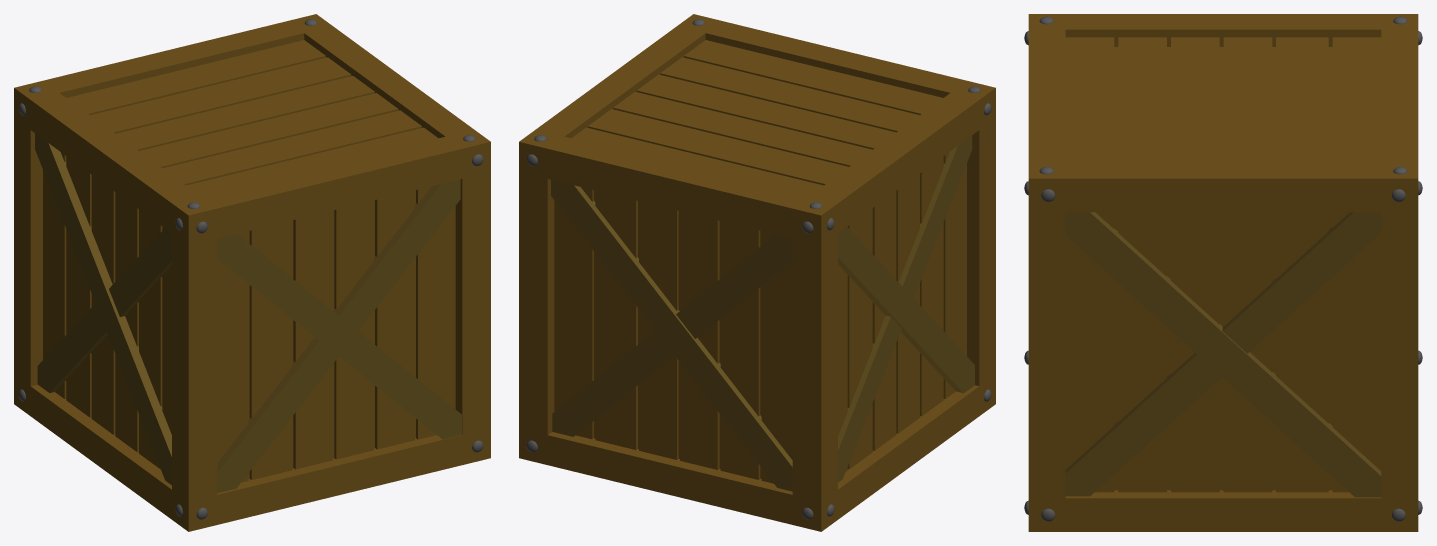
Rendered from CajaMadera.fbx.
3 views of the same model, side by side, from view 1: azimuth 30°, elevation 25°; view 2: azimuth 150°, elevation 25°; view 3: azimuth 270°, elevation 25° (orthographic). The views are drawn at different scales.
Visible parts, largest first — view 1: Box, Cross; view 2: Box, Cross; view 3: Box, Cross, Sphere, Sphere.001.
Boxes of the visible parts, x1,y1,x2,y2 form: Box: [14, 14, 490, 531]; Cross: [35, 133, 461, 492]; Box: [519, 14, 995, 531]; Cross: [551, 135, 974, 491]; Box: [1028, 14, 1418, 531]; Cross: [1065, 212, 1381, 497]; Sphere: [1041, 189, 1405, 521]; Sphere.001: [1024, 31, 1422, 514].
Bounding box in the file's own units: 521 × 521 × 522.
